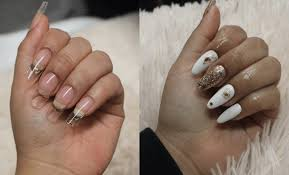nail: (206, 81, 233, 108), (197, 65, 225, 90), (25, 49, 49, 77), (190, 50, 217, 73), (30, 1, 48, 28), (39, 71, 58, 96), (216, 104, 241, 123), (55, 83, 72, 110), (75, 92, 93, 116), (200, 1, 215, 15)
